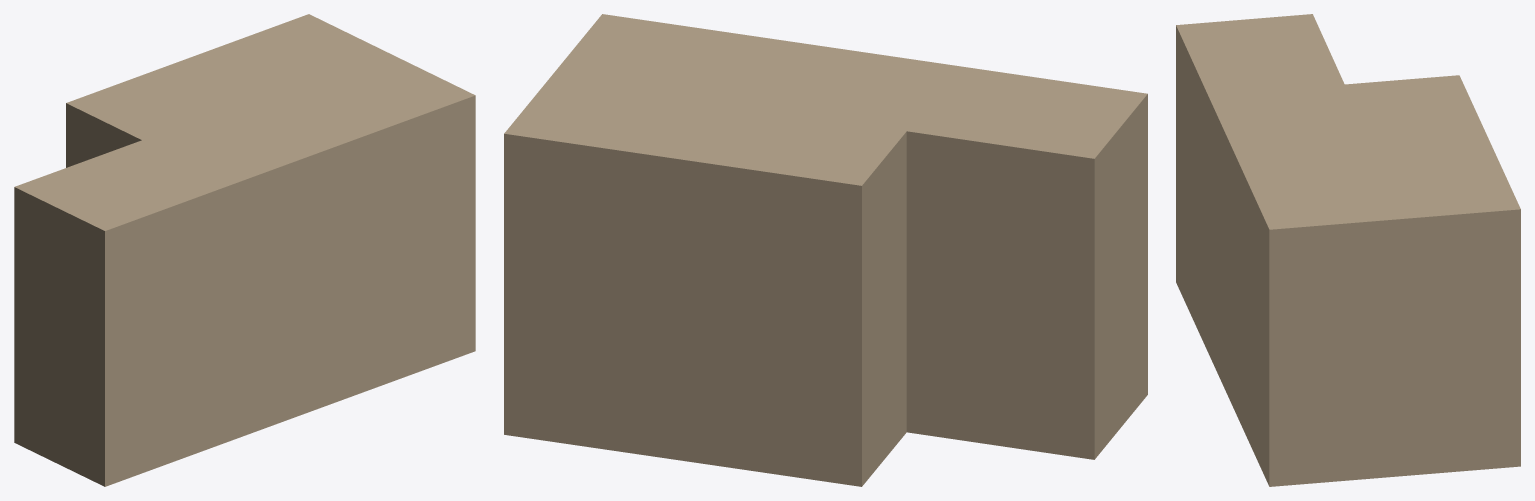
Rendered from bld_101562322.dae.
The picture shows the model from 3 angles, left to right: view 1: azimuth 30°, elevation 25°; view 2: azimuth 150°, elevation 25°; view 3: azimuth 270°, elevation 25°; orthographic projection. The views are drawn at different scales.
Visible parts, largest first — view 1: bld_101562322; view 2: bld_101562322; view 3: bld_101562322.
Boxes of the visible parts, x1,y1,x2,y2 form: bld_101562322: (14, 14, 475, 486); bld_101562322: (504, 14, 1147, 486); bld_101562322: (1176, 14, 1520, 486).
Bounding box in the file's own units: 14.39 × 9.72 × 8.
